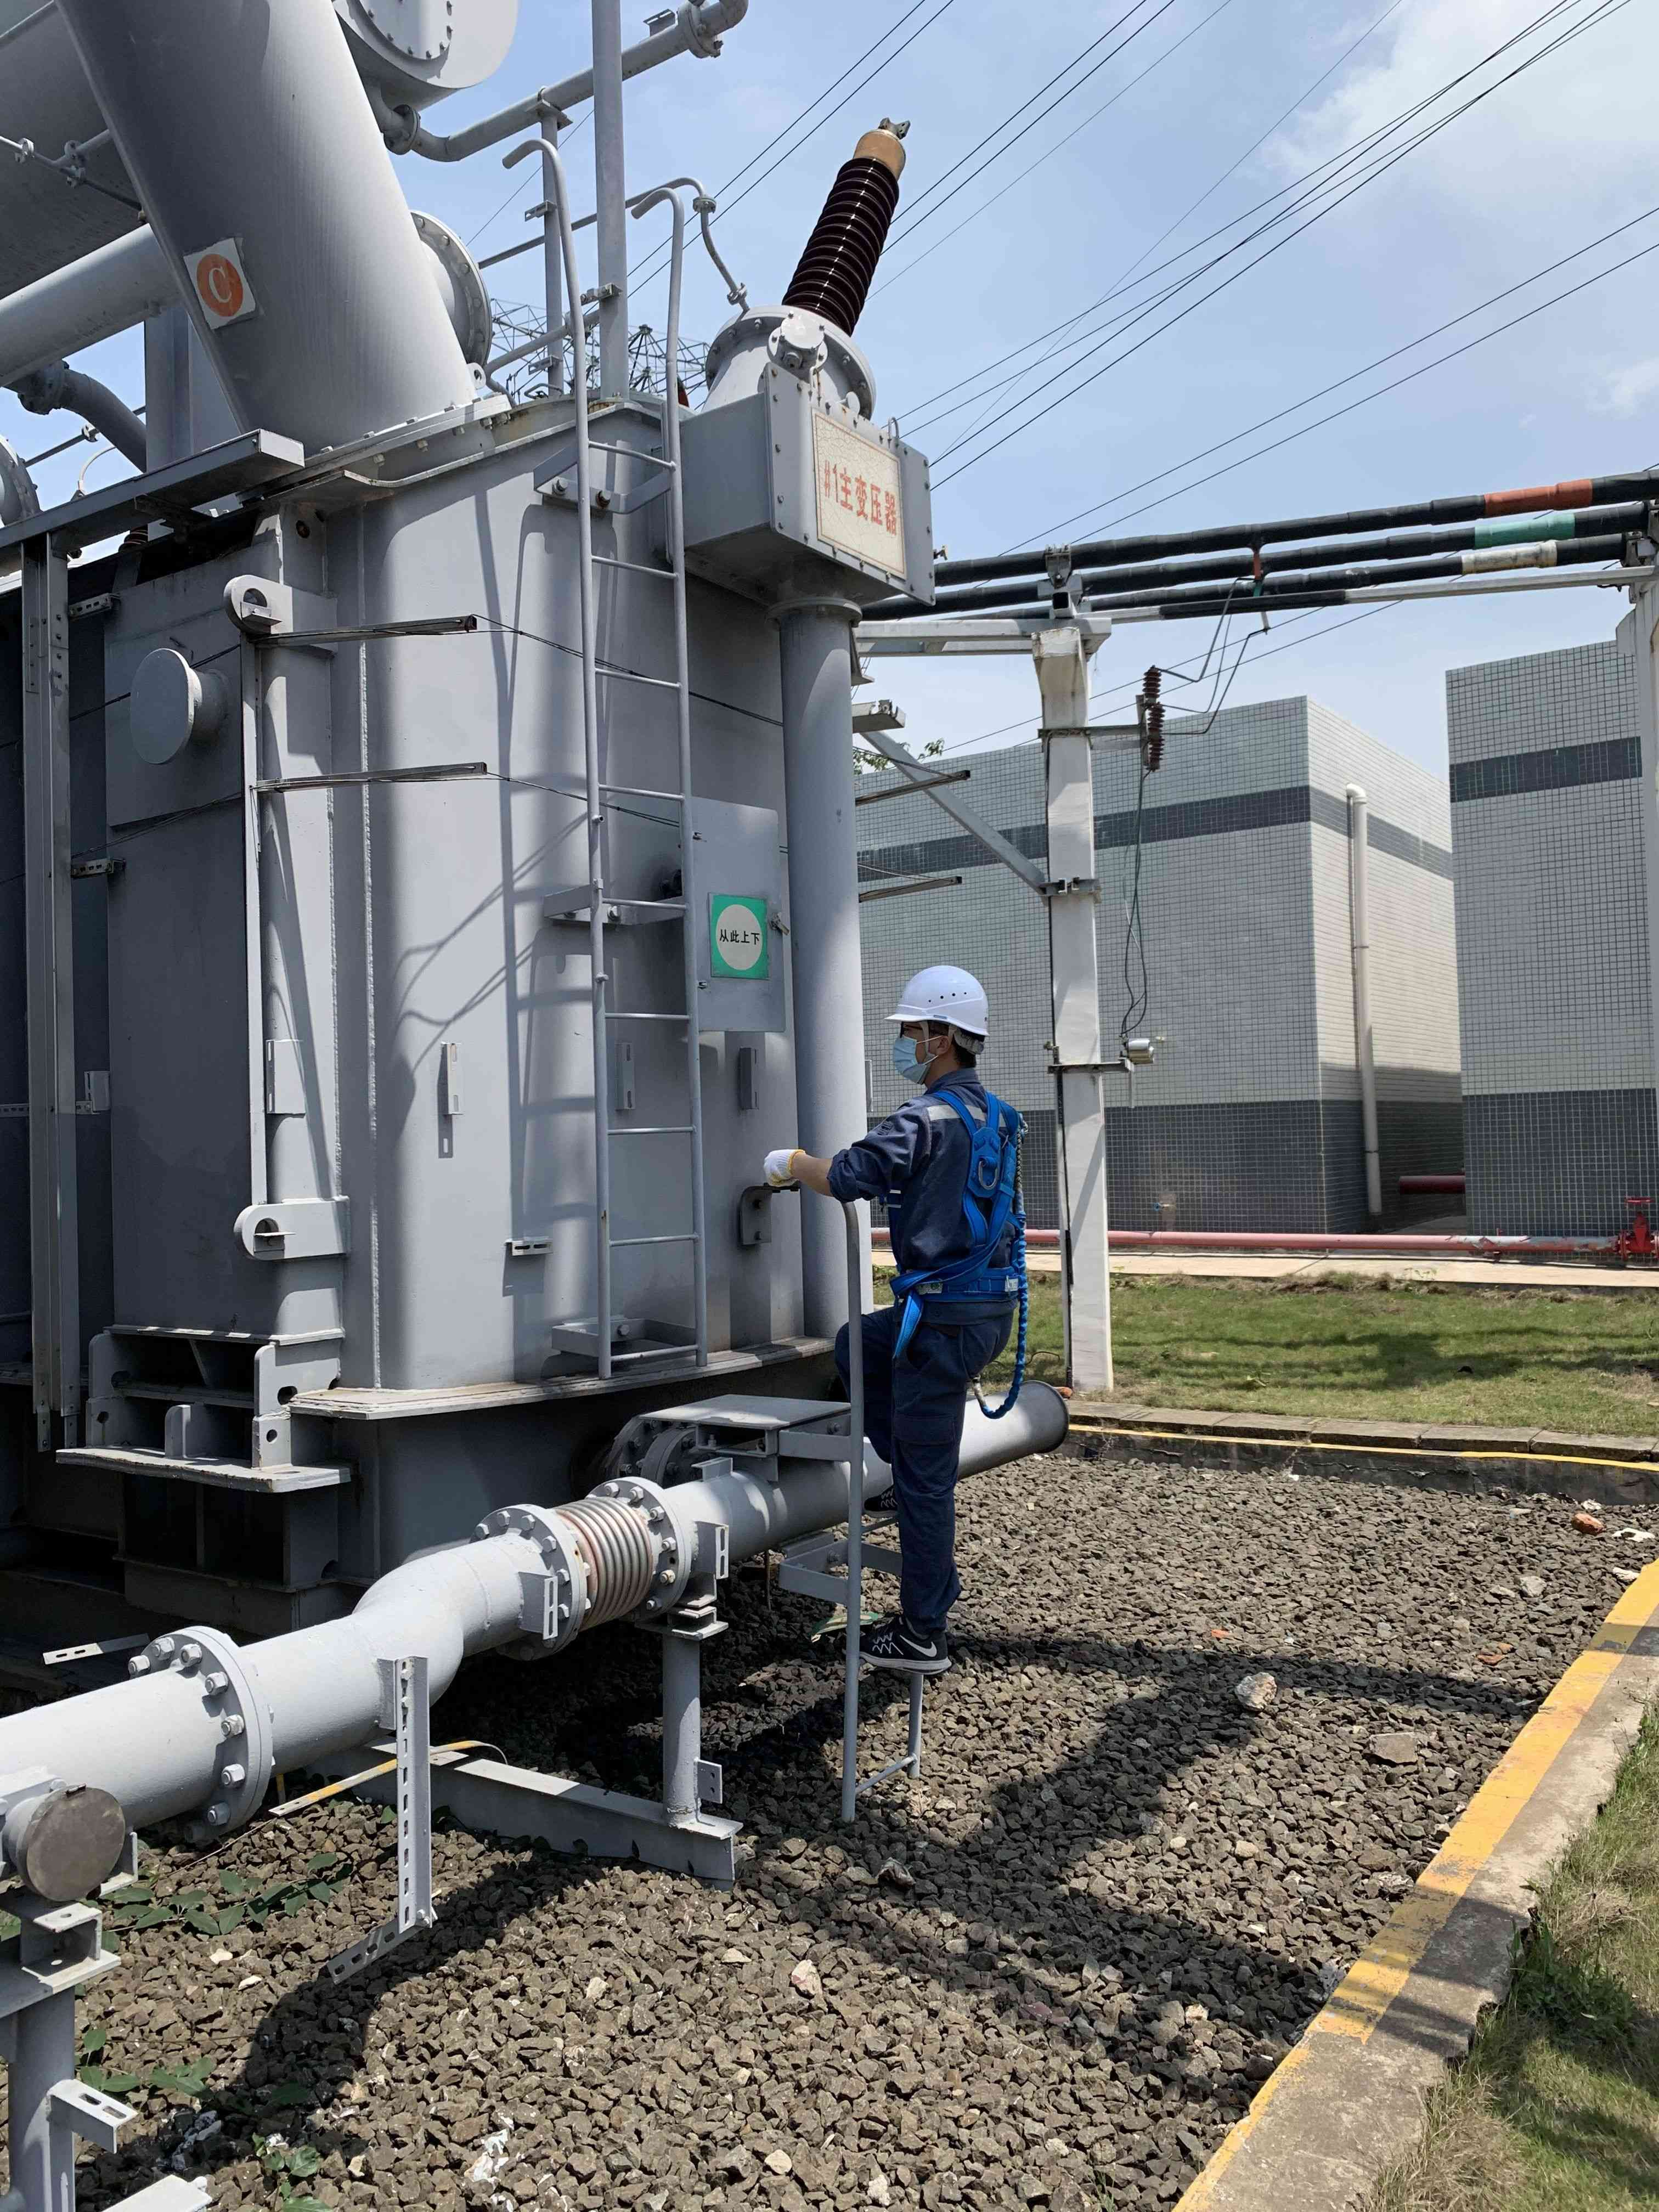downsuit: (843, 1325, 1018, 1616)
upsuit: (824, 1076, 1037, 1299)
wrongtop: (775, 1136, 882, 1212)
